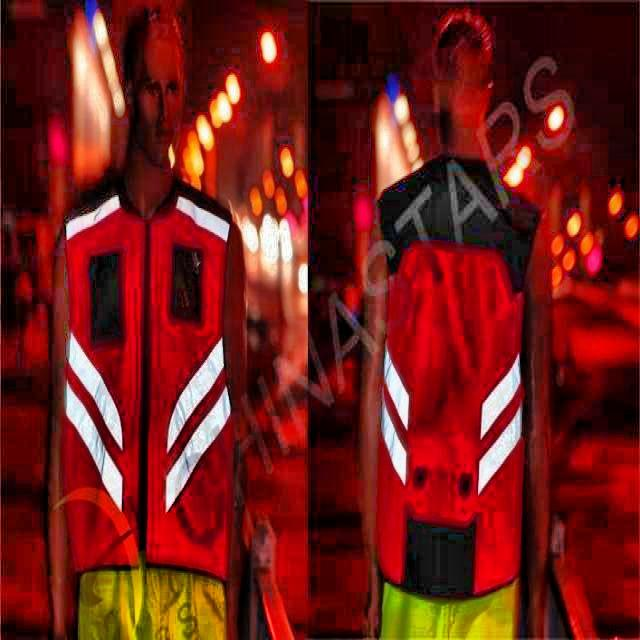safety_jacket: (365, 131, 554, 640), (86, 157, 260, 640)
